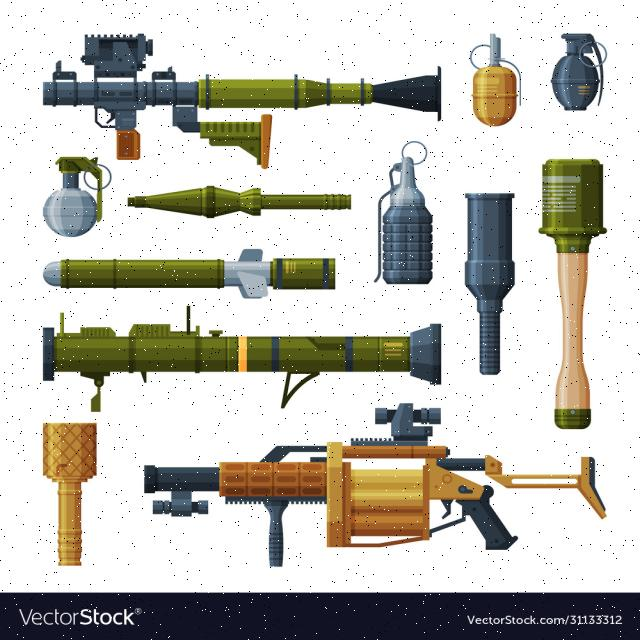bazooka: (33, 30, 448, 163), (30, 299, 460, 416)
